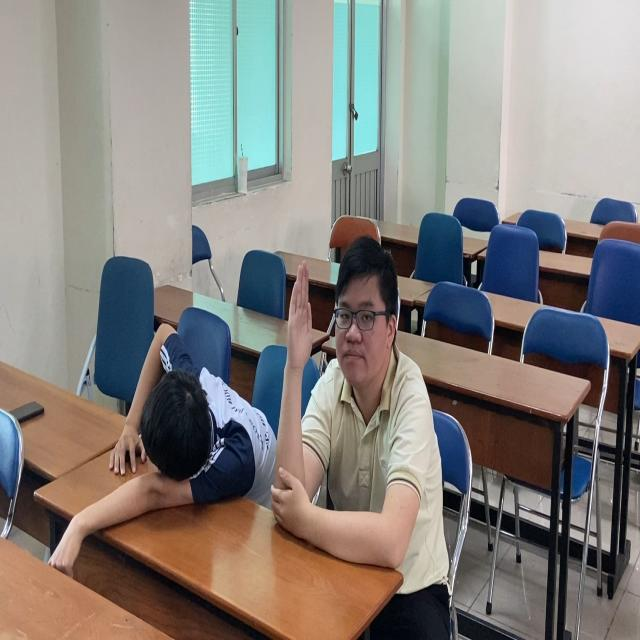raise_hand: (278, 239, 429, 556)
sleep: (68, 317, 274, 521)
